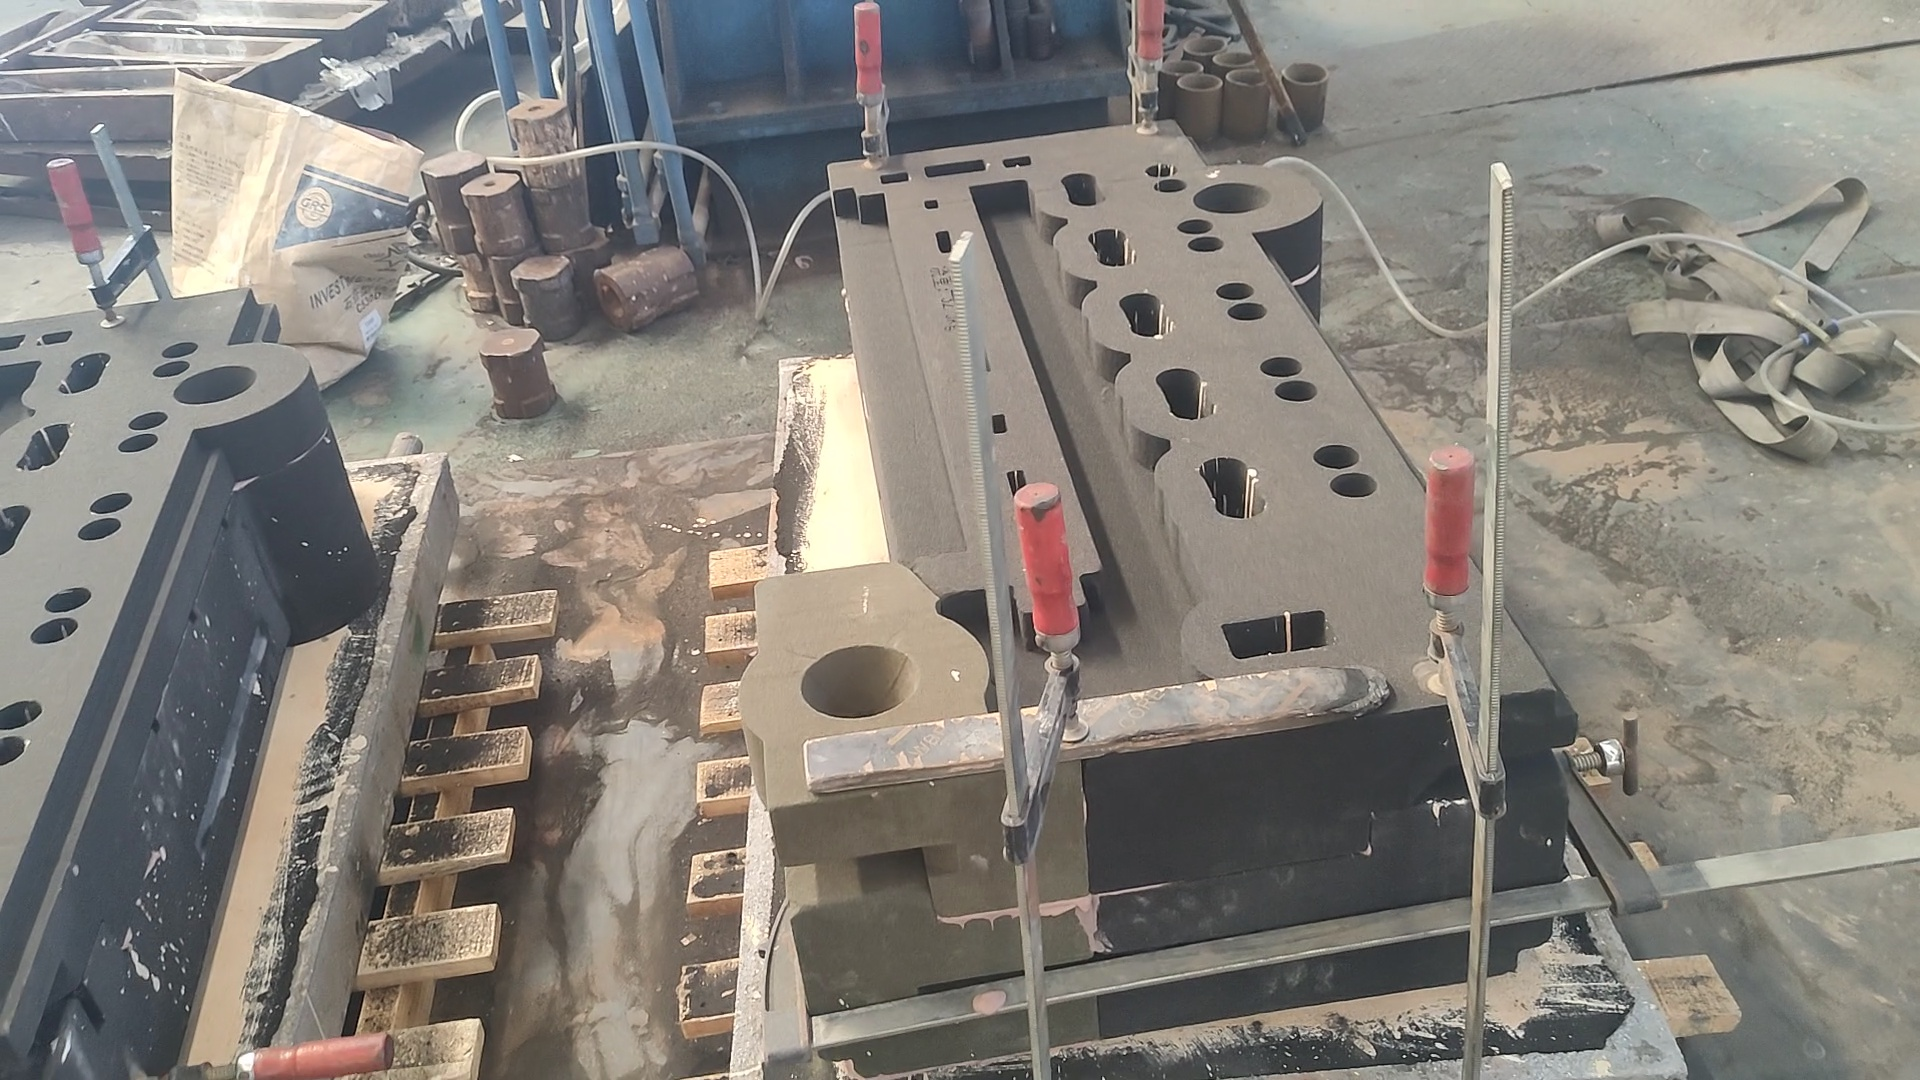pouring hole: (799, 644, 919, 717), (174, 367, 255, 404), (1193, 183, 1273, 214), (1280, 61, 1329, 84), (1224, 67, 1269, 87), (1183, 36, 1226, 55), (1176, 74, 1222, 90), (1212, 51, 1257, 67), (1159, 61, 1203, 75)
